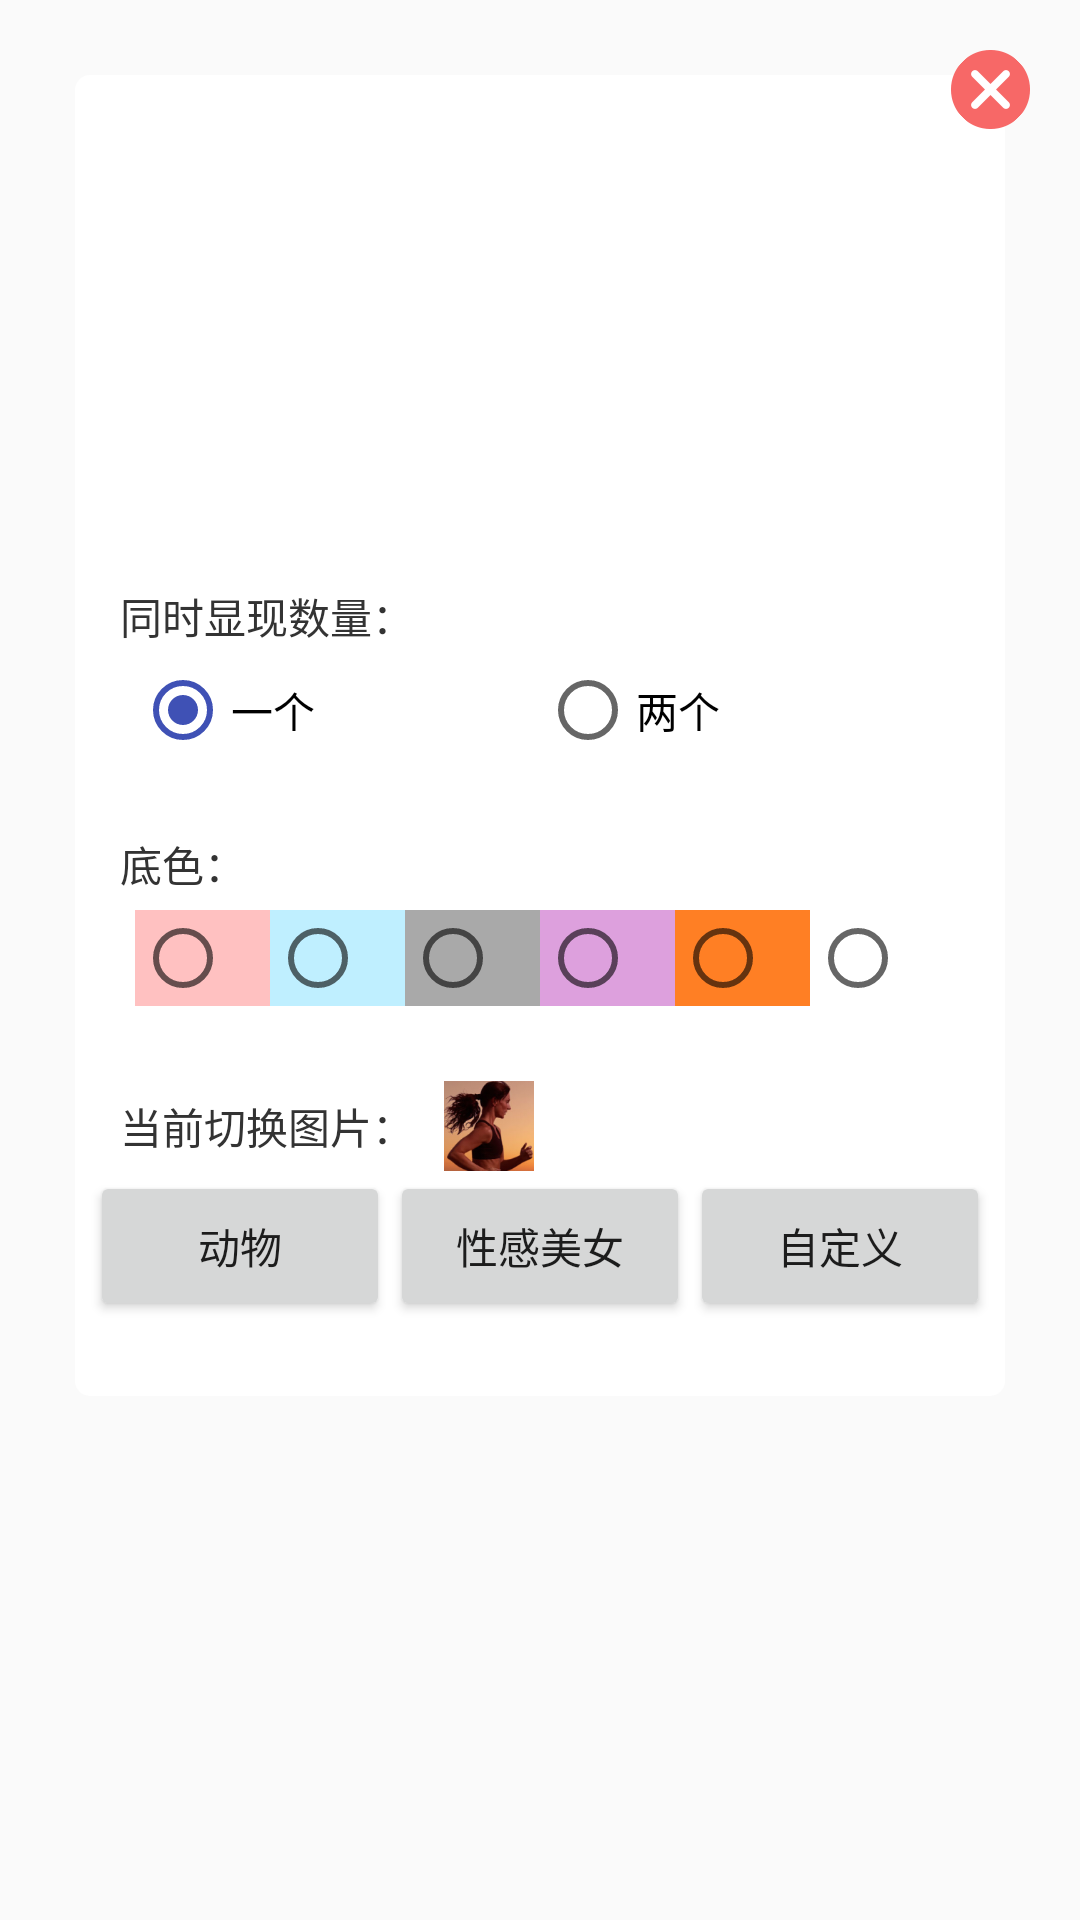

Screen size 1080px x 1920px. Icon name, then its box in pixels as {"left": x1, "top": y1, "right": x2, "bottom": y2}:
target adv delete: {"left": 951, "top": 50, "right": 1030, "bottom": 129}
